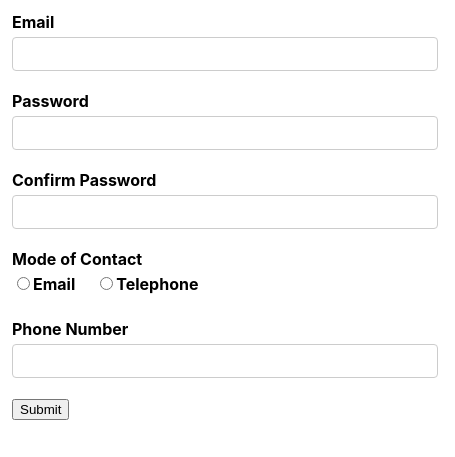
it: test to submit registration form with password match validation
The image size is (455, 457).
Type "mock@someemail.com" into the field named "email". click: (225, 54)
box: 12,37 -> 438,71
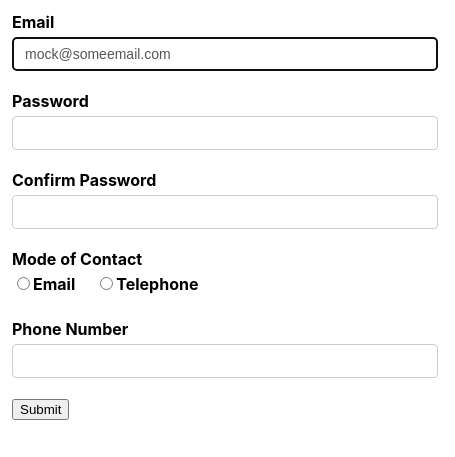
Type "12345678" into the password field named "password". click: (225, 133)
box: 12,116 -> 438,150
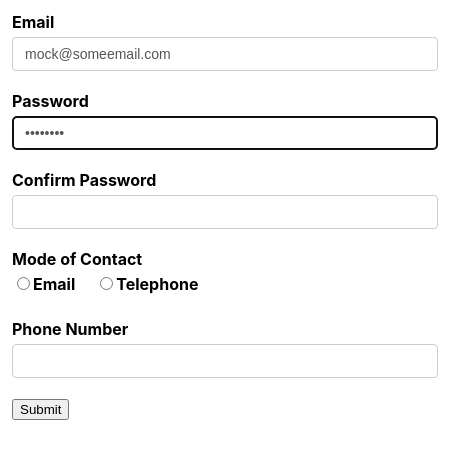
Type "1234567" into the password field named "confirmPassword". click: (225, 212)
box: 12,195 -> 438,229
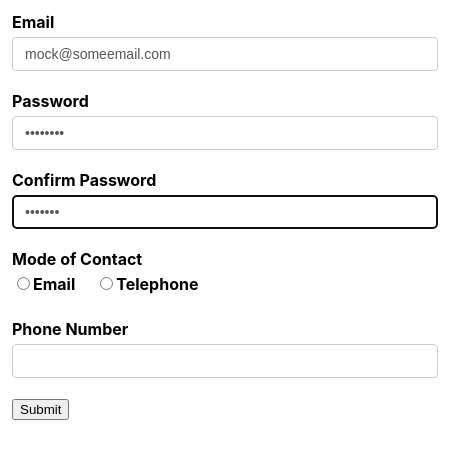
Click the radio button with id "emailmoc". click: (24, 284)
box: 17,277 -> 30,290
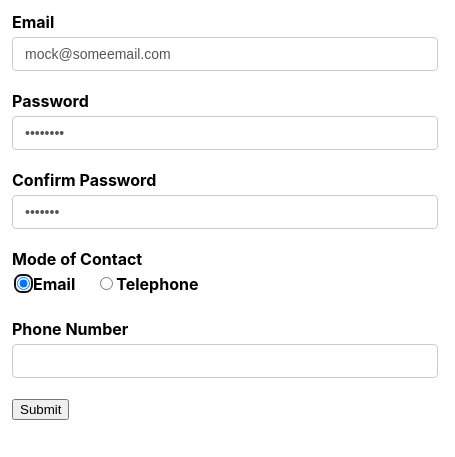
Click the submit button. click: (41, 410)
box: 12,399 -> 70,420
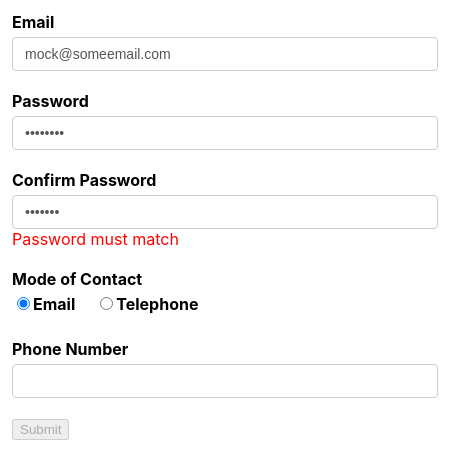
Check: the radio button with id "emailmoc" is checked, box 17,297 -> 30,310
Check: the submit button is disabled, box 12,419 -> 70,440
Check: the text with test id "confirmPasswordError" reads "Password must match", box 12,229 -> 179,249
